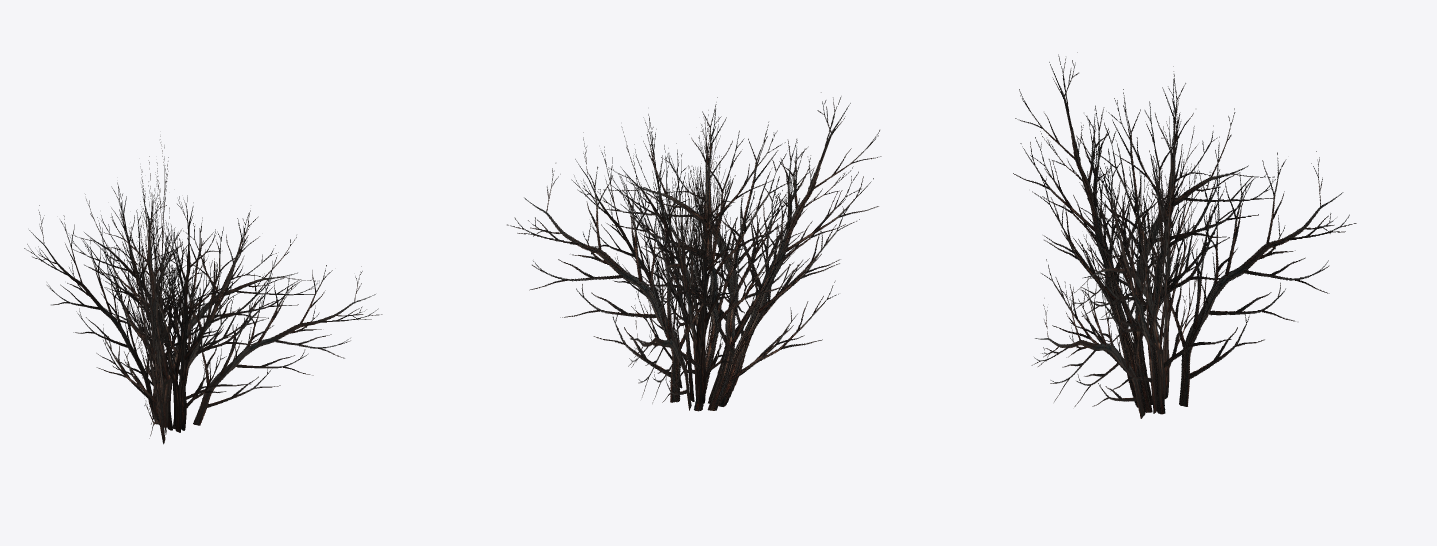
Rendered from fern_3.glb.
The picture shows the model from 3 angles, left to right: view 1: azimuth 30°, elevation 25°; view 2: azimuth 150°, elevation 25°; view 3: azimuth 270°, elevation 25°; orthographic projection. The views are drawn at different scales.
Parts seen in each view (by area): view 1: fern_3; view 2: fern_3; view 3: fern_3.
Part boxes in pixels (x1=…): fern_3: x1=24, y1=136, x2=382, y2=444; fern_3: x1=507, y1=92, x2=881, y2=411; fern_3: x1=1013, y1=52, x2=1356, y2=418.
Bounding box in the file's own units: 1.67 × 2.18 × 1.81.
1 material, 1 textured.
